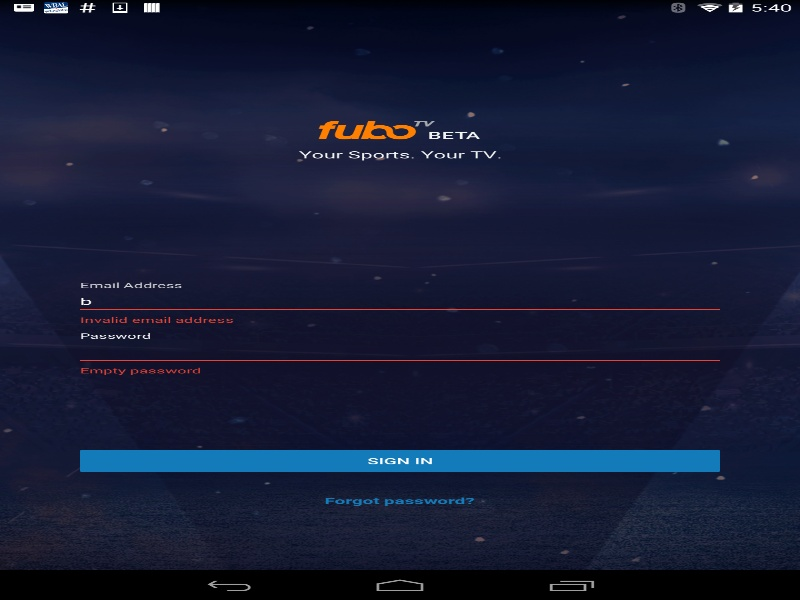Button: (74, 445, 725, 475)
Input: (74, 338, 725, 365), (74, 288, 725, 314)
